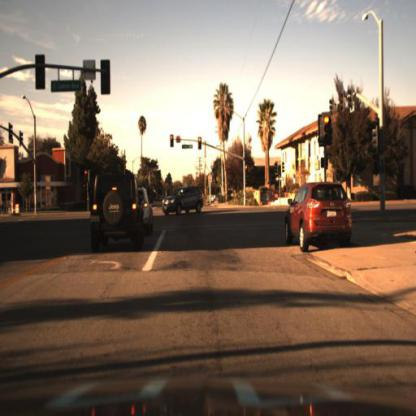car: (281, 173, 360, 256), (83, 170, 146, 262), (282, 179, 355, 251), (91, 168, 142, 257), (138, 176, 159, 244), (161, 187, 203, 216)
trafficLight: (322, 113, 332, 151)
trafficLight-Red: (321, 112, 333, 140), (168, 133, 177, 149), (243, 162, 251, 176), (197, 135, 206, 147), (244, 165, 250, 183), (198, 137, 203, 153)
trafficLight-RedLeft: (168, 131, 175, 152)
